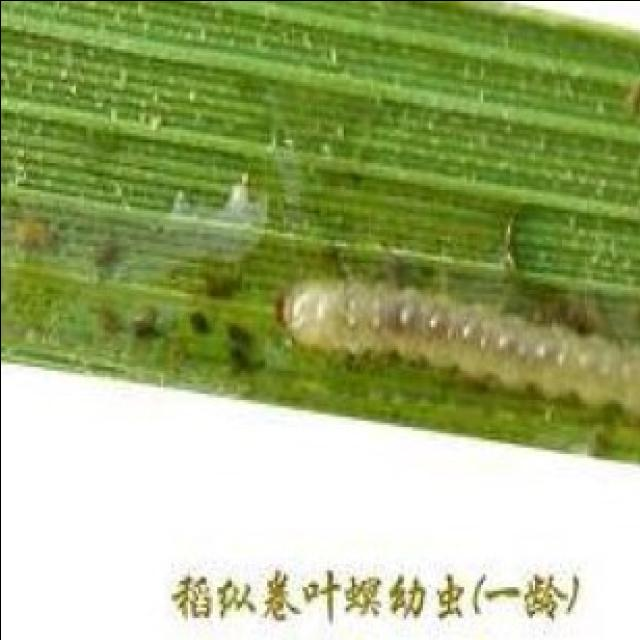rice leaf roller: (281, 281, 640, 411)
